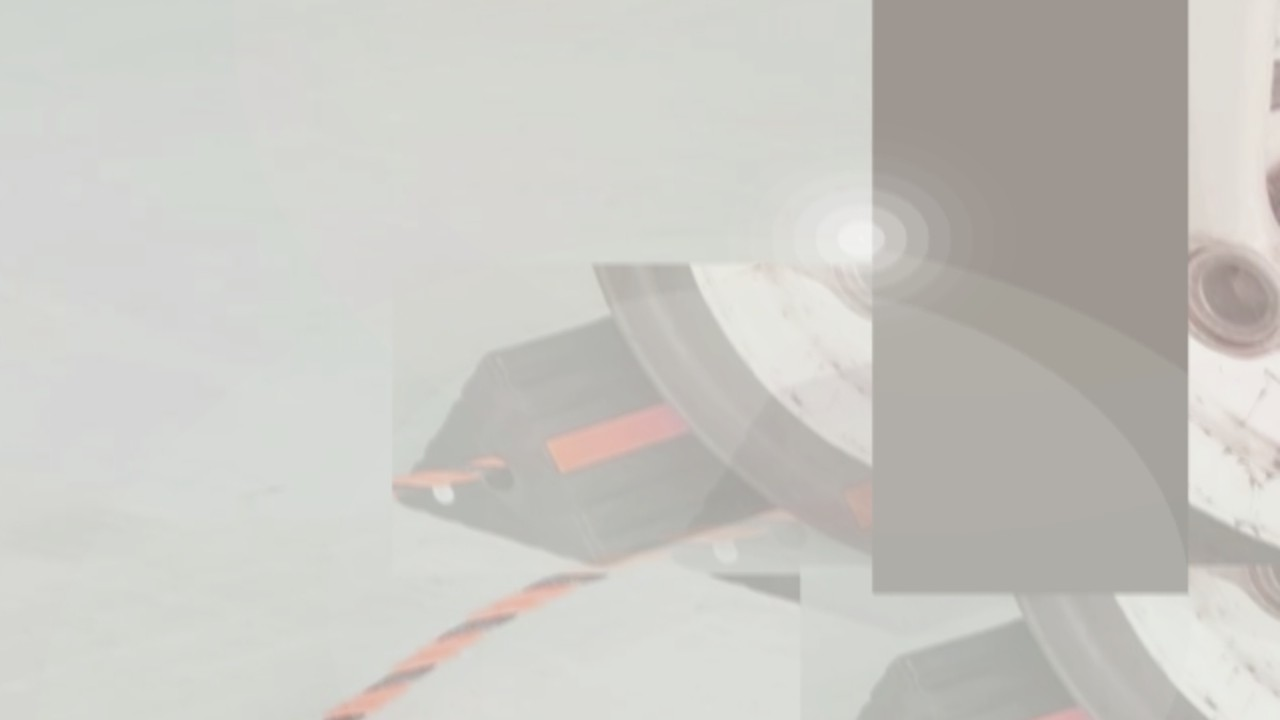chock: (669, 287, 1280, 647), (394, 264, 1026, 575), (802, 565, 1280, 720)
wheel: (872, 0, 1280, 678)
